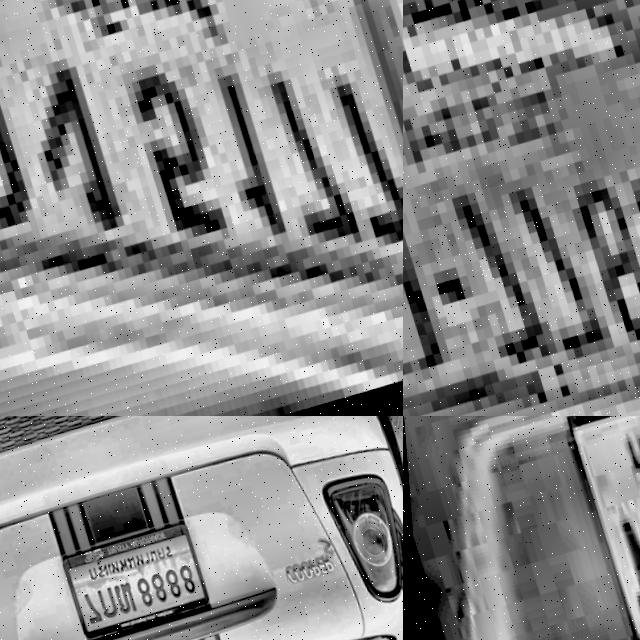license-plate: (0, 0, 403, 416), (403, 0, 640, 416), (553, 416, 640, 640), (54, 521, 207, 640)
